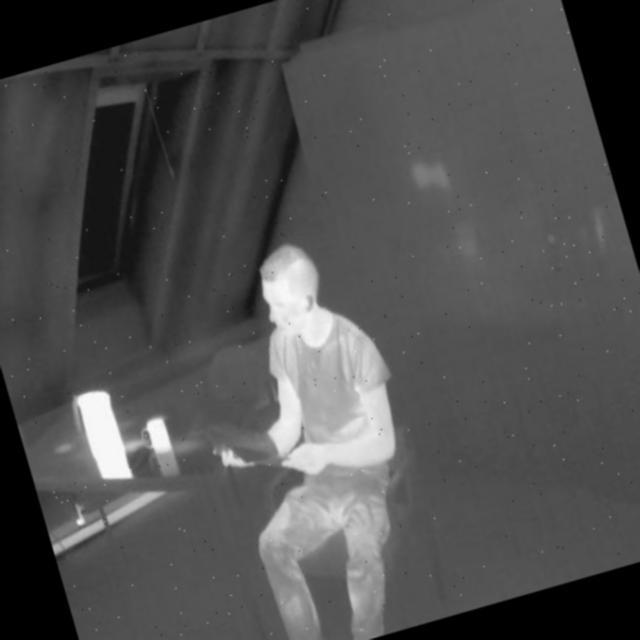person: (169, 221, 460, 640)
